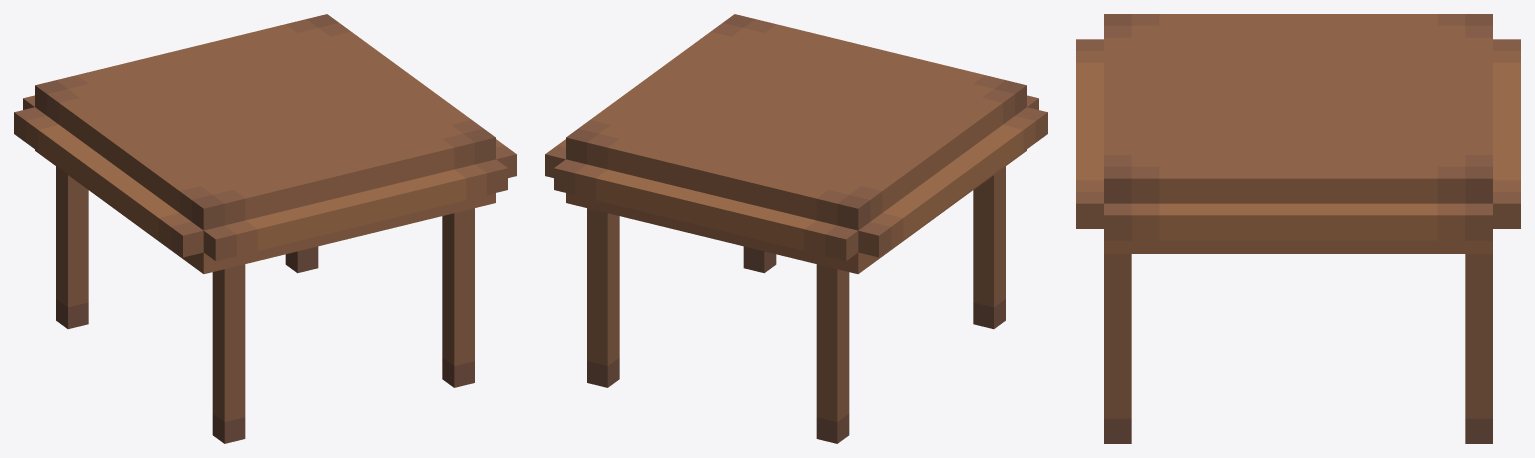
Rendered from Interior_Furniture-15.obj.
3 renders of one model, left to right at view 1: azimuth 30°, elevation 25°; view 2: azimuth 150°, elevation 25°; view 3: azimuth 270°, elevation 25°, orthographic. The views are drawn at different scales.
Size of the model in its own units: 1.6 by 1.1 by 1.6.
1 material, 1 textured.
